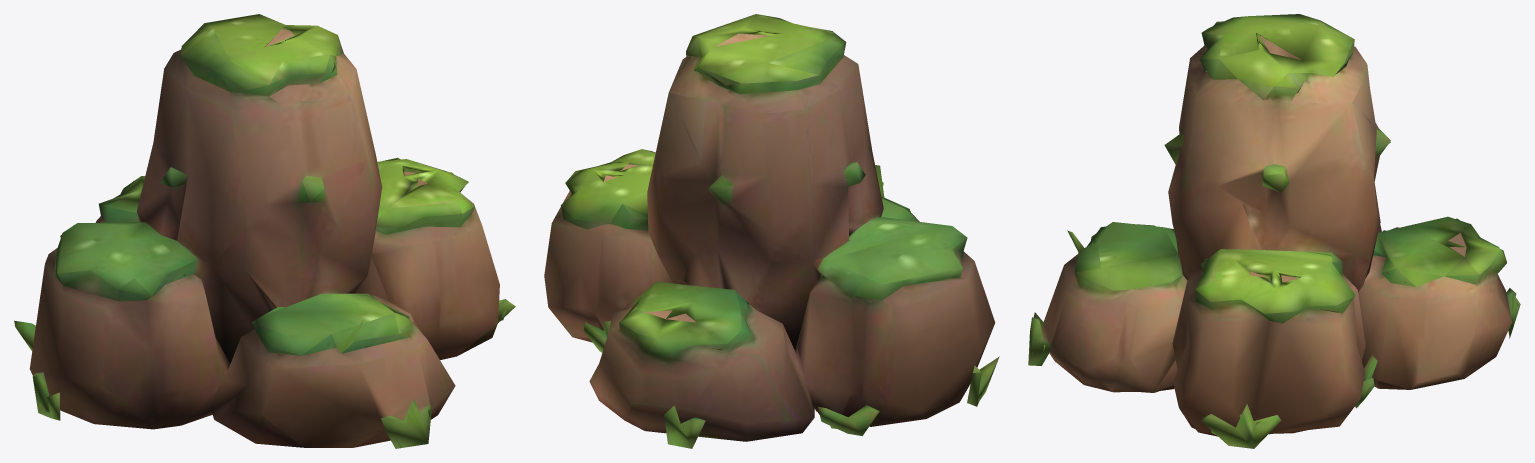
Rendered from sz-boulder-c.glb.
The picture shows the model from 3 angles, left to right: view 1: azimuth 30°, elevation 25°; view 2: azimuth 150°, elevation 25°; view 3: azimuth 270°, elevation 25°; orthographic projection. The views are drawn at different scales.
Parts seen in each view (by area): view 1: geometry_0; view 2: geometry_0; view 3: geometry_0.
Part boxes in pixels (x1=…): geometry_0: x1=14, y1=14, x2=515, y2=448; geometry_0: x1=544, y1=14, x2=999, y2=448; geometry_0: x1=1028, y1=14, x2=1520, y2=448.
Bounding box in the file's own units: 1 × 0.7046 × 0.9983.
1 material, 1 textured.
